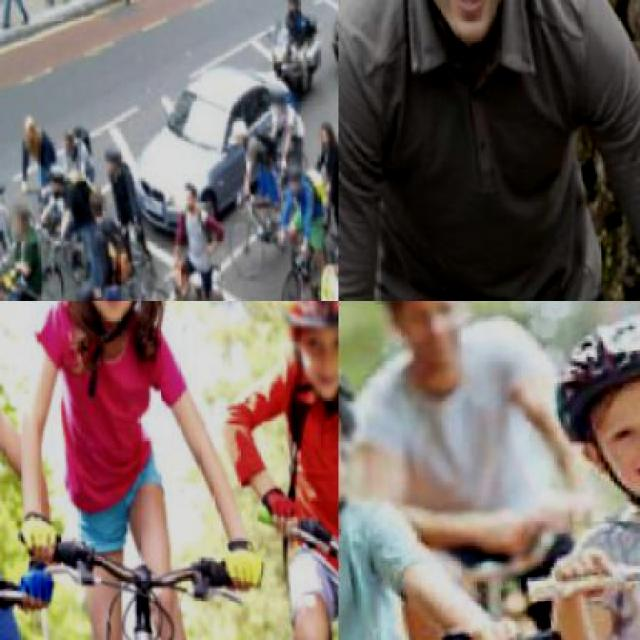With Helmet: (532, 300, 638, 545), (372, 0, 551, 65), (269, 300, 337, 412), (284, 162, 305, 203), (266, 85, 288, 120), (67, 277, 101, 298), (102, 146, 122, 180), (325, 243, 337, 286), (283, 0, 301, 15)
Without Helmet: (172, 170, 206, 221), (5, 203, 32, 243), (18, 114, 40, 152), (205, 290, 226, 298)
